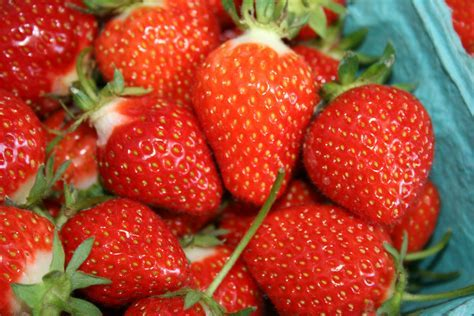strawberry: (193, 16, 319, 213), (217, 194, 404, 316), (71, 84, 230, 220), (302, 77, 435, 229), (56, 191, 194, 300), (91, 2, 226, 104), (2, 1, 99, 100), (1, 208, 78, 315), (1, 89, 53, 211)
